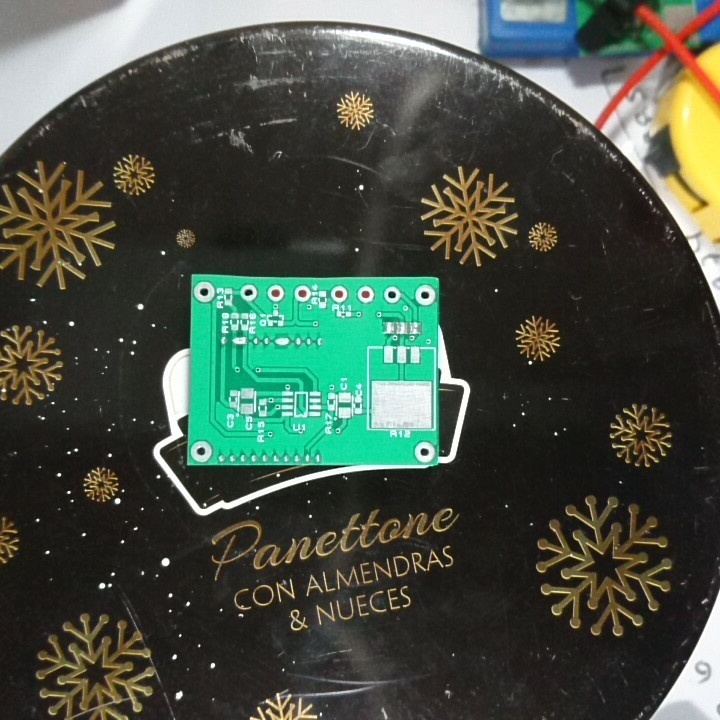F: (413, 283, 436, 307), (192, 279, 215, 303), (190, 439, 214, 461), (413, 441, 436, 463), (355, 285, 376, 304), (330, 284, 348, 303), (382, 285, 400, 303), (266, 283, 284, 301), (294, 285, 312, 301), (240, 282, 256, 300)
P: (273, 334, 292, 348), (231, 335, 249, 348)
